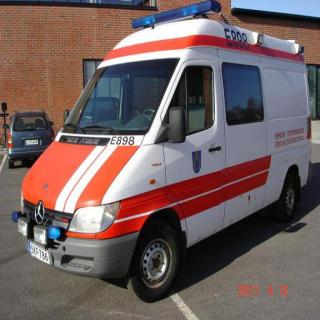Ambulance: (7, 6, 316, 302)
